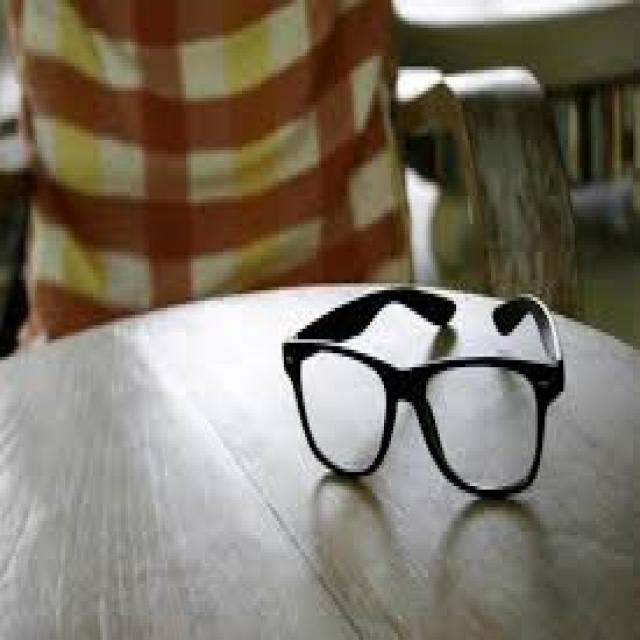glasses: (264, 195, 593, 559)
